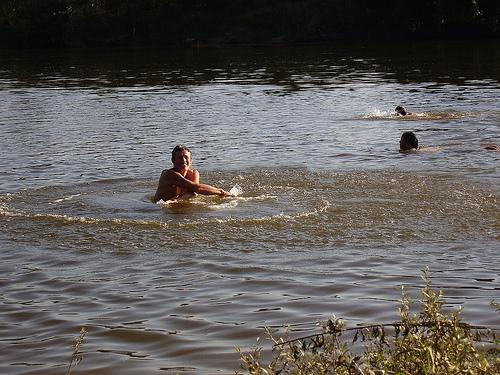swimmer: (150, 143, 226, 199), (397, 128, 423, 152)
